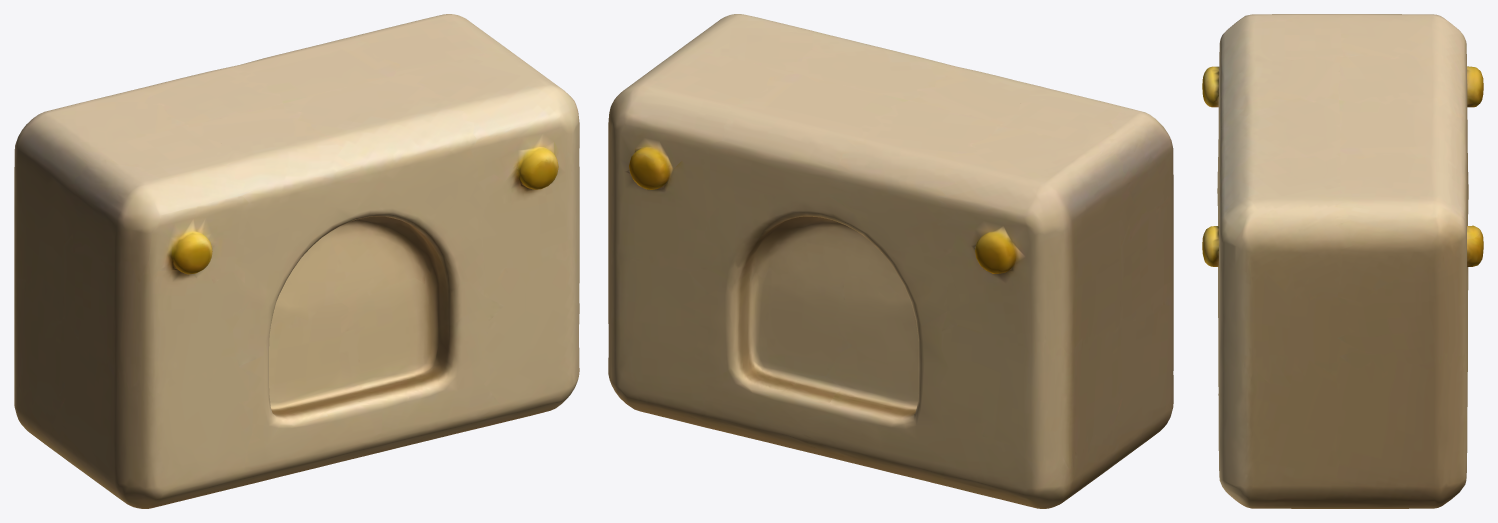
File: stone-block.glb
The picture shows the model from 3 angles, left to right: view 1: azimuth 30°, elevation 25°; view 2: azimuth 150°, elevation 25°; view 3: azimuth 270°, elevation 25°; orthographic projection. The views are drawn at different scales.
Visible parts, largest first — view 1: stone-block; view 2: stone-block; view 3: stone-block.
Part boxes in pixels (box(x1,y1,x2,y2)): stone-block: box(14, 14, 579, 508); stone-block: box(608, 14, 1173, 508); stone-block: box(1202, 14, 1483, 508).
Bounding box in the file's own units: 1.5 × 1.01 × 0.8362.
Materials: 1 (1 with a texture image).
